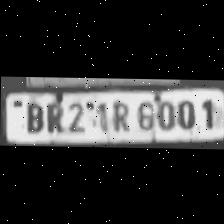0: (173, 95, 197, 128), (154, 96, 176, 130)
1: (196, 95, 220, 128), (86, 98, 108, 132)
2: (63, 98, 87, 132)
8: (130, 96, 155, 130)
B: (22, 98, 44, 132)
R: (107, 96, 131, 132), (42, 97, 64, 132)
